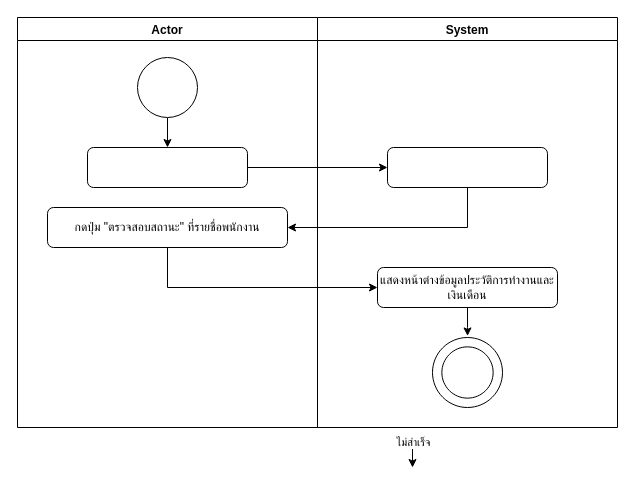
Some shapes in this 635 by 493 pixel diagram are drawn without their labels. Here are the shapes that lost their labels. From the top down, the centre of each, then its label:
point (167, 167): เลือกเมนู "จัดการพนักงาน"
point (467, 167): แสดงรายชื่อพนักงานปัจจุบัน
